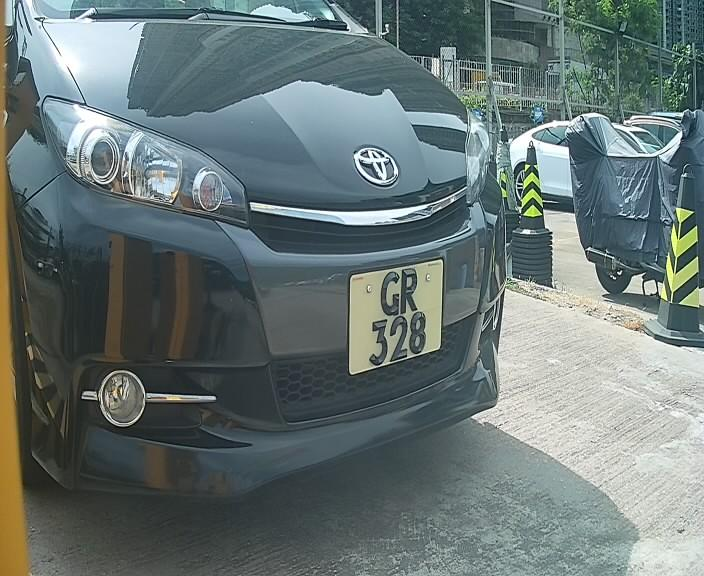License Plate: (340, 245, 450, 381)
